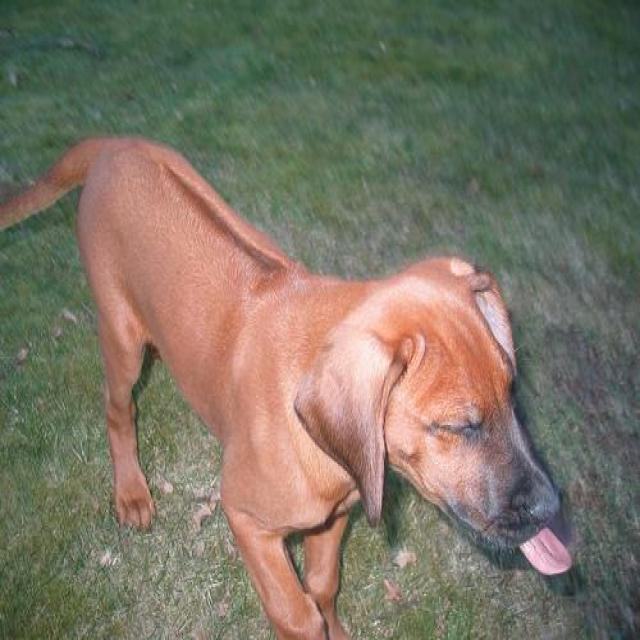rhodesian_ridgeback: (0, 131, 573, 634)
